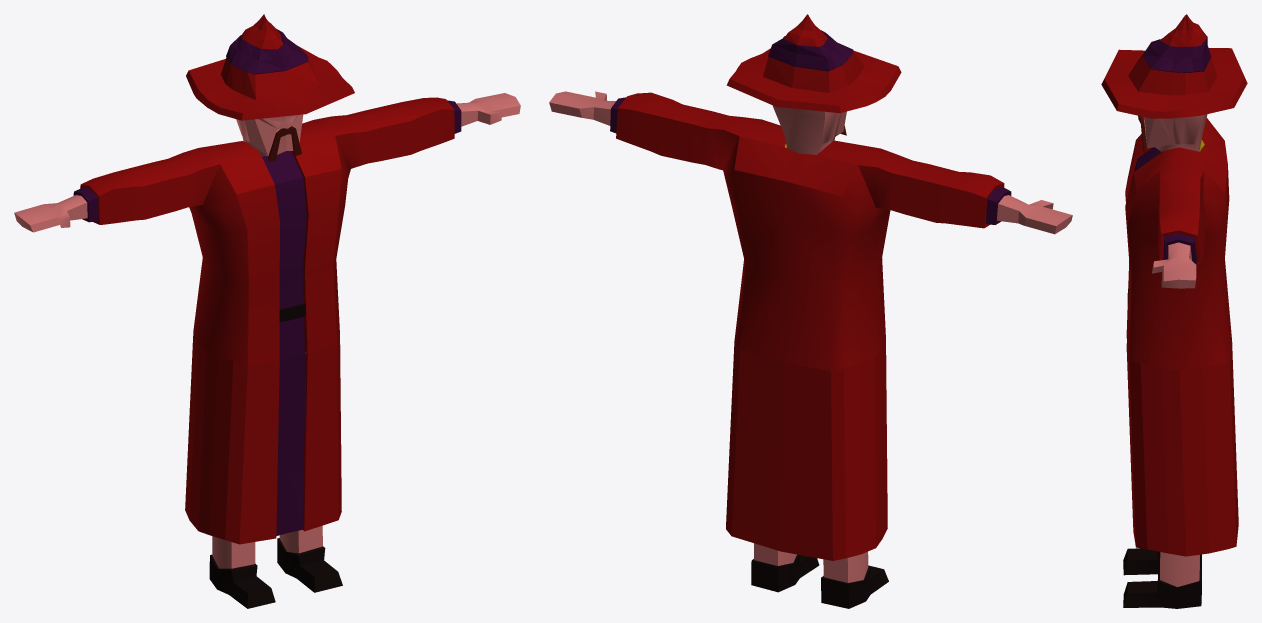
File: BrujoEnemigo.fbx
3 views of the same model, side by side, from view 1: azimuth 30°, elevation 25°; view 2: azimuth 150°, elevation 25°; view 3: azimuth 270°, elevation 25° (orthographic). The views are drawn at different scales.
Parts seen in each view (by area): view 1: ColapsadoBrujoEnemigo; view 2: ColapsadoBrujoEnemigo; view 3: ColapsadoBrujoEnemigo.
Boxes of the visible parts, <box> form: ColapsadoBrujoEnemigo: <box>14,14,520,608</box>; ColapsadoBrujoEnemigo: <box>549,14,1072,608</box>; ColapsadoBrujoEnemigo: <box>1101,14,1247,608</box>.
Bounding box in the file's own units: 1.67 × 1.81 × 0.4211.
